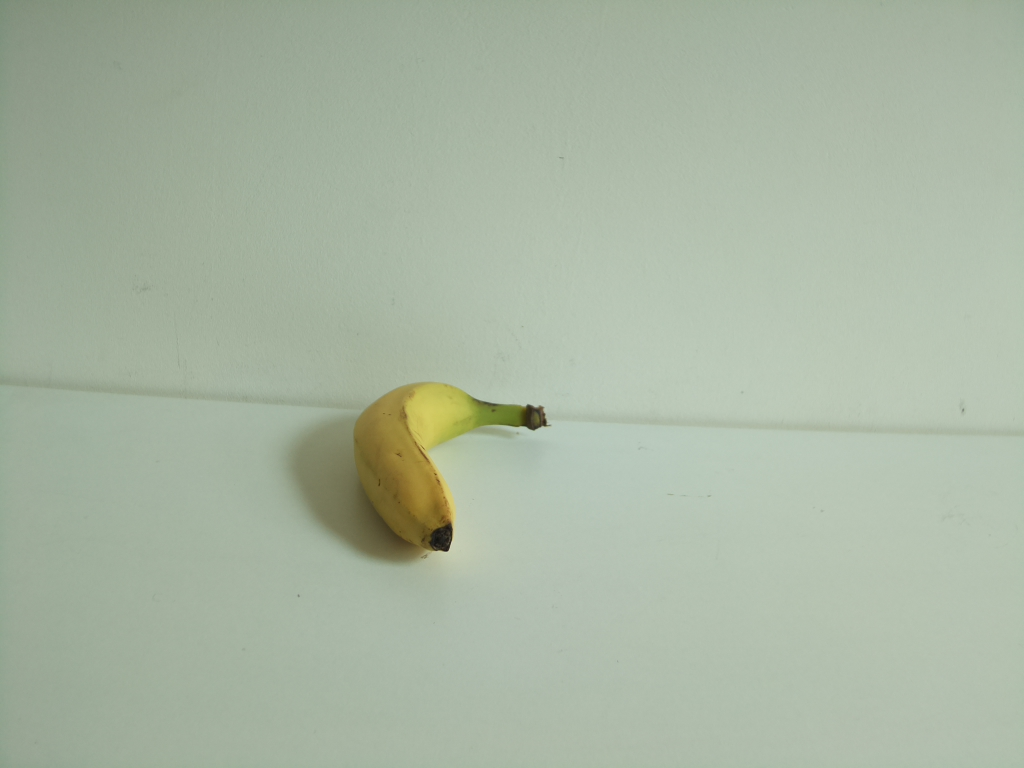banana: (352, 382, 547, 554)
